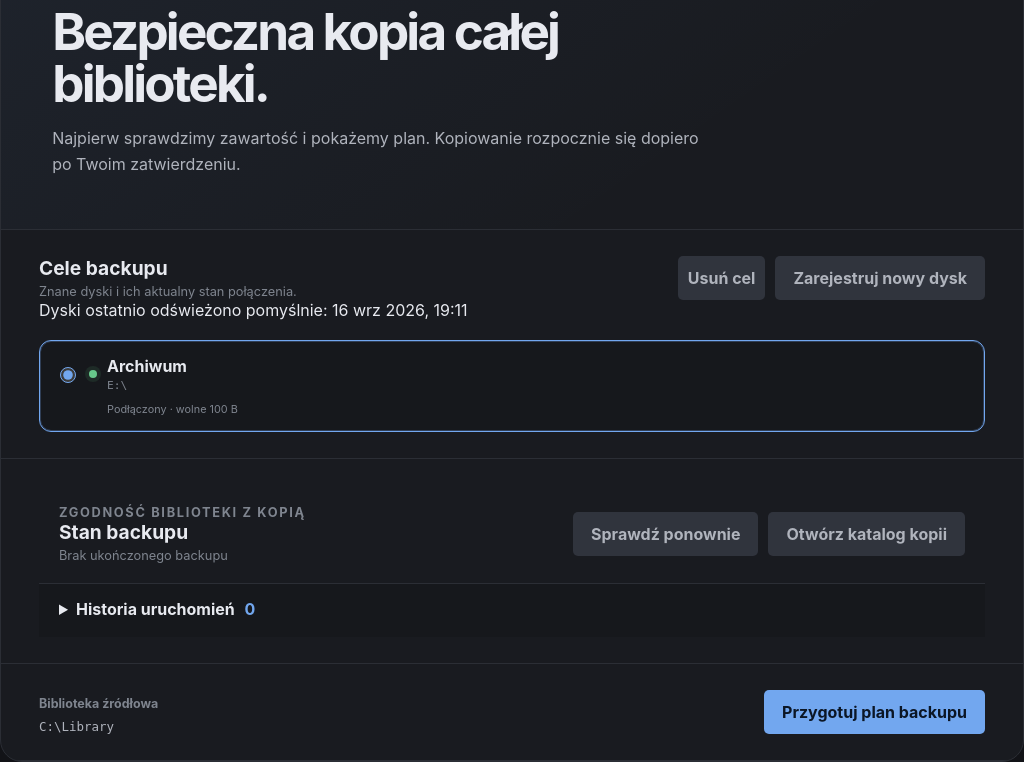
Test: BackupPanel › blocks approval and explains when the target has too little free space
The width and height of the screenshot is (1024, 762).
(page scrolled)
Step 1. Click the button "Przygotuj plan backupu" → {"x": 874, "y": 712}, box [764, 690, 985, 734]
(page scrolled)
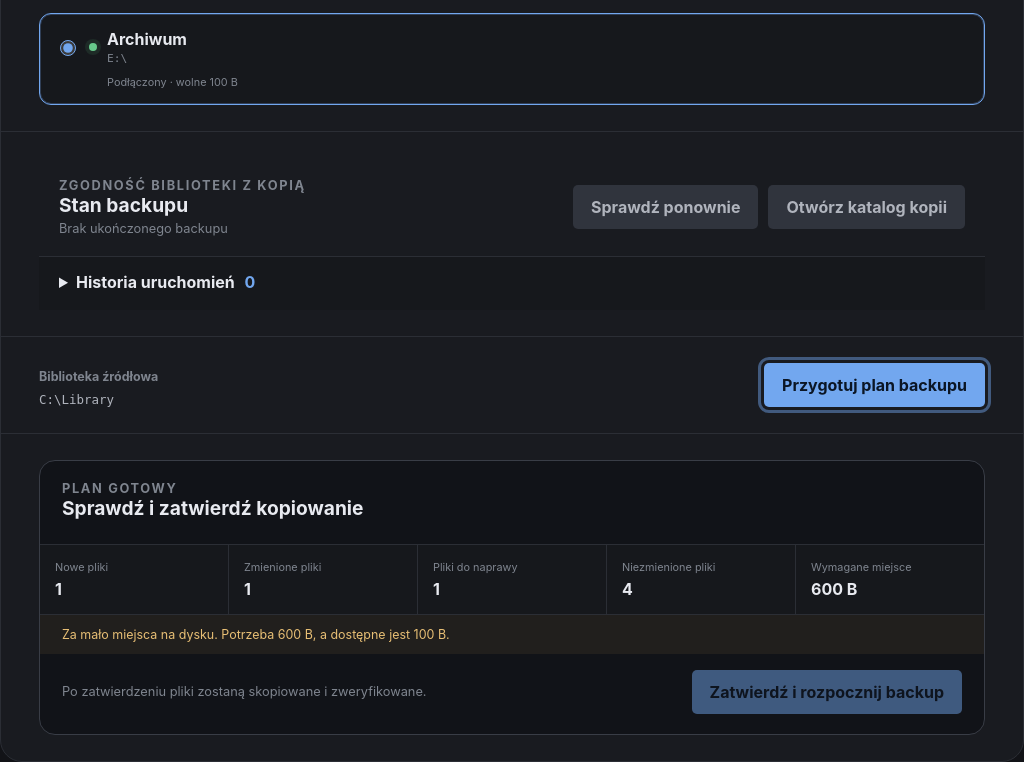
Now the message shows "Za mało miejsca", box [62, 627, 450, 642]
Now the button "Zatwierdź i rozpocznij backup" is disabled, box [692, 670, 962, 714]
